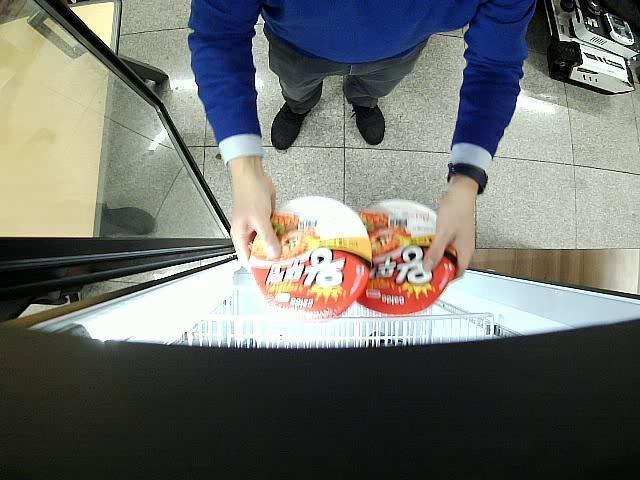10_wangTtukkeong: (250, 196, 373, 321), (357, 200, 458, 313)
